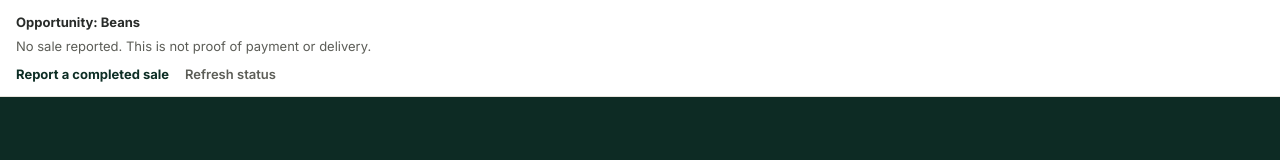
Scenario: requires an explicit sale report and lets the user withdraw it
Click the button "Report a completed sale" at (92, 74), box x1=16 y1=64 x2=169 y2=84
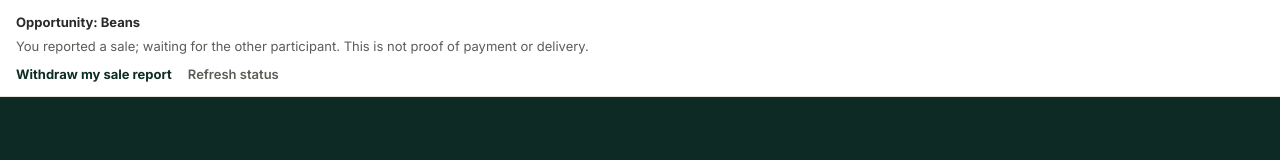
expect the text "waiting for the other participant" is shown: met, box x1=16 y1=38 x2=340 y2=54
Click the button "Withdraw my sale report" at (94, 74), box x1=16 y1=64 x2=172 y2=84
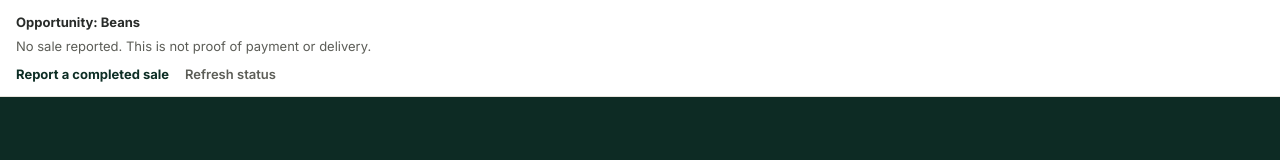
expect the text "No sale reported. This is not proof of payment or delivery." is shown: met, box x1=16 y1=38 x2=371 y2=54
